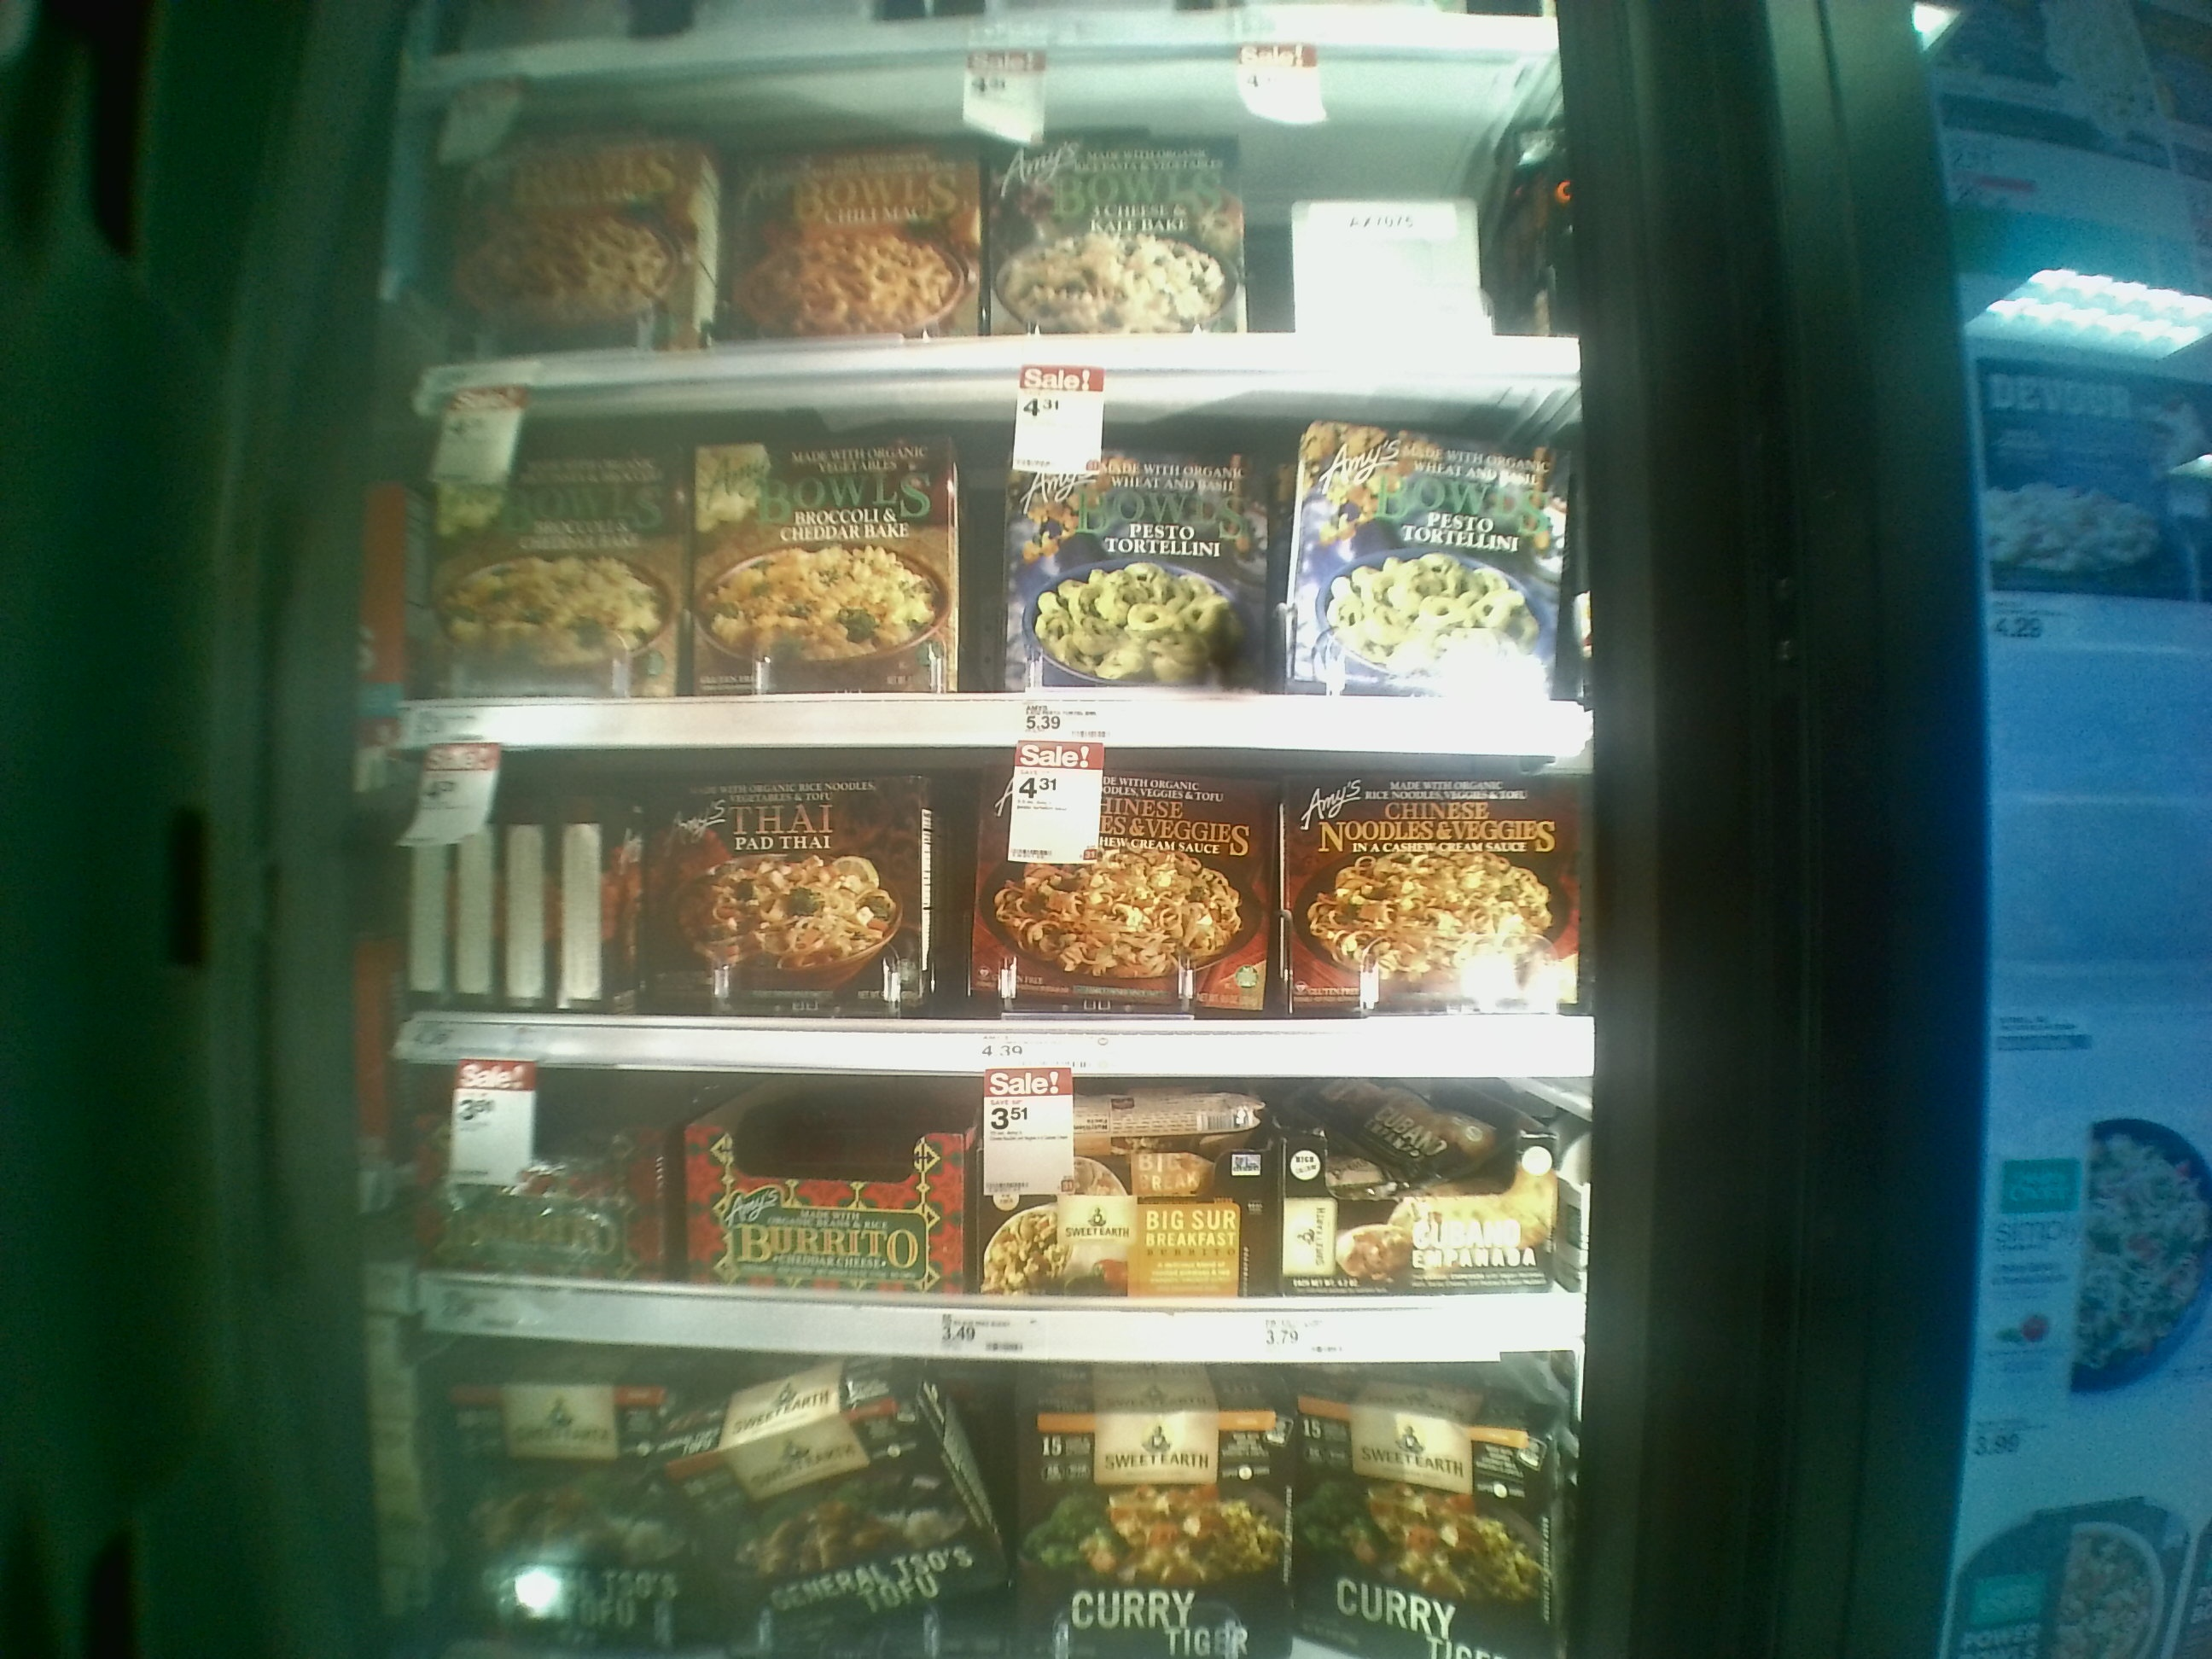frozen-food-shelf: (383, 413, 1622, 763), (381, 763, 1627, 1068), (381, 1065, 1639, 1364), (395, 99, 1615, 408)
